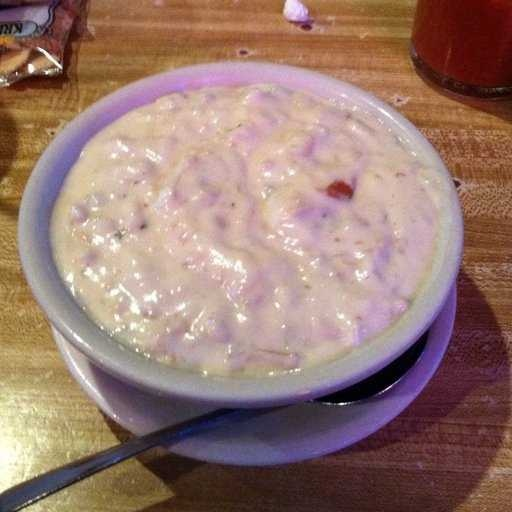soup: (45, 73, 471, 376)
